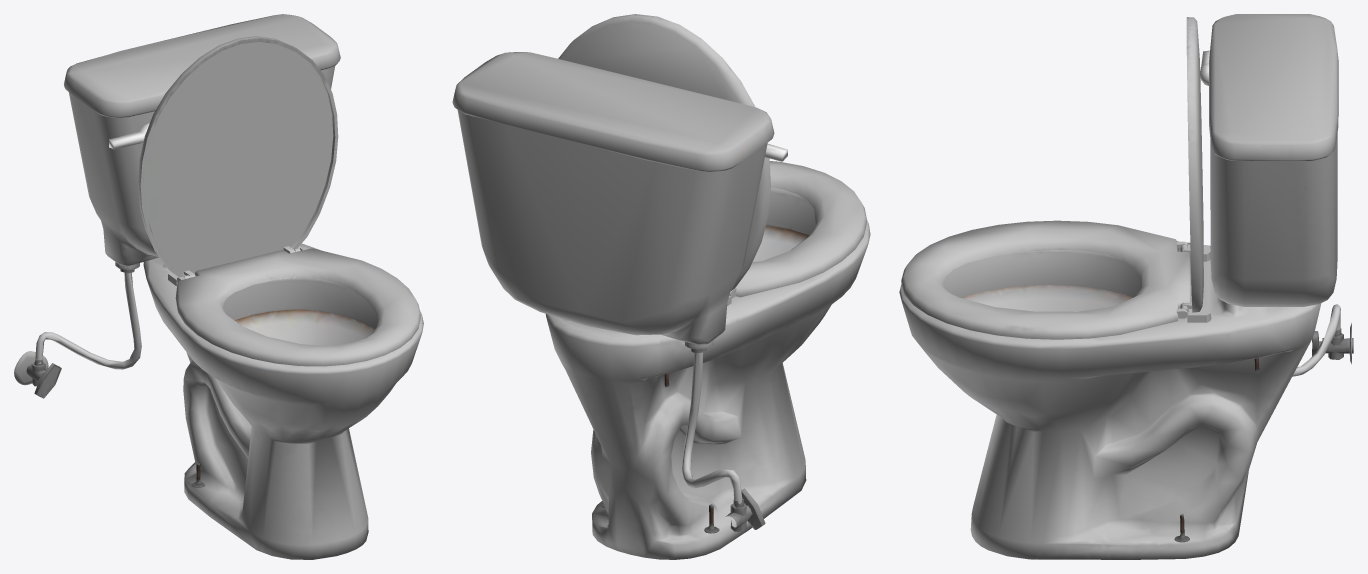
Rendered from toilet.glb.
3 renders of one model, left to right at view 1: azimuth 30°, elevation 25°; view 2: azimuth 150°, elevation 25°; view 3: azimuth 270°, elevation 25°, orthographic. The views are drawn at different scales.
Parts seen in each view (by area): view 1: Toilet_Toilet_0; view 2: Toilet_Toilet_0; view 3: Toilet_Toilet_0.
Part boxes in pixels (box(x1,y1,x2,y2)): Toilet_Toilet_0: box(14, 14, 423, 559); Toilet_Toilet_0: box(452, 14, 870, 559); Toilet_Toilet_0: box(899, 14, 1353, 559).
Size of the model in its own units: 0.4784 by 0.7435 by 0.607.
Materials: 1 (1 with a texture image).
